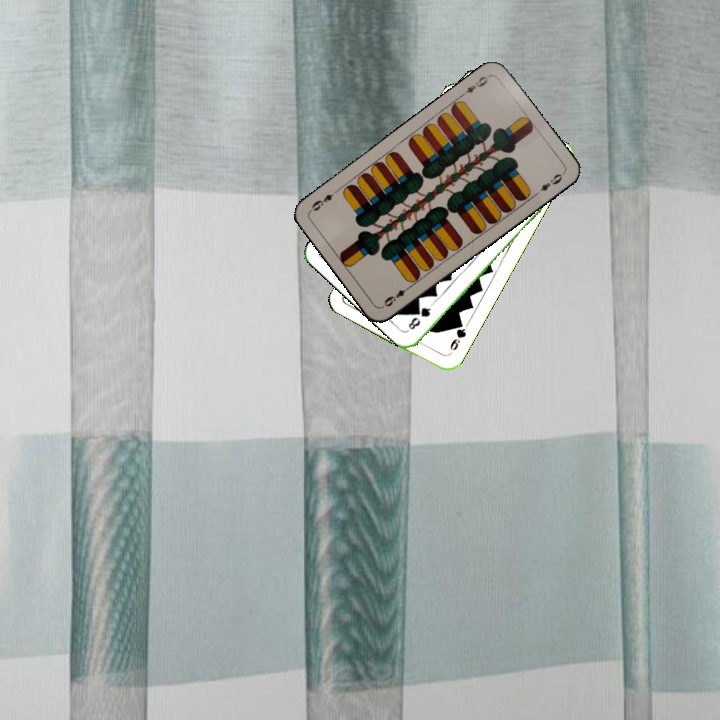E9: (457, 71, 492, 99), (380, 281, 414, 309)
G8: (404, 300, 435, 332)
G9: (446, 317, 469, 353)
